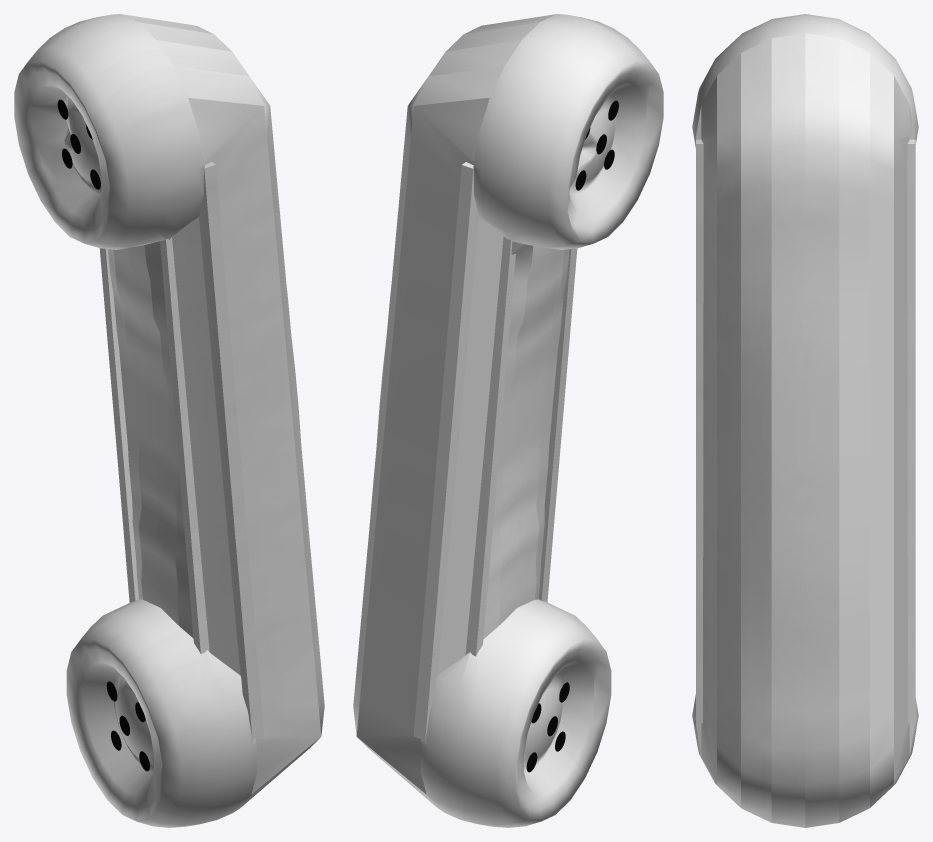
Rendered from TelefonoBIG.obj.
The picture shows the model from 3 angles, left to right: view 1: azimuth 30°, elevation 25°; view 2: azimuth 150°, elevation 25°; view 3: azimuth 270°, elevation 25°; orthographic projection. The views are drawn at different scales.
Parts seen in each view (by area): view 1: pasted__group2_pasted__pasted__pDisc1; view 2: pasted__group2_pasted__pasted__pDisc1; view 3: pasted__group2_pasted__pasted__pDisc1.
Boxes of the visible parts, bbox=[...] form: pasted__group2_pasted__pasted__pDisc1: bbox=[14, 14, 324, 827]; pasted__group2_pasted__pasted__pDisc1: bbox=[353, 14, 663, 827]; pasted__group2_pasted__pasted__pDisc1: bbox=[692, 14, 918, 827].
Size of the model in its own units: 2.03 by 6.47 by 1.73.
3 materials, 3 textured.
